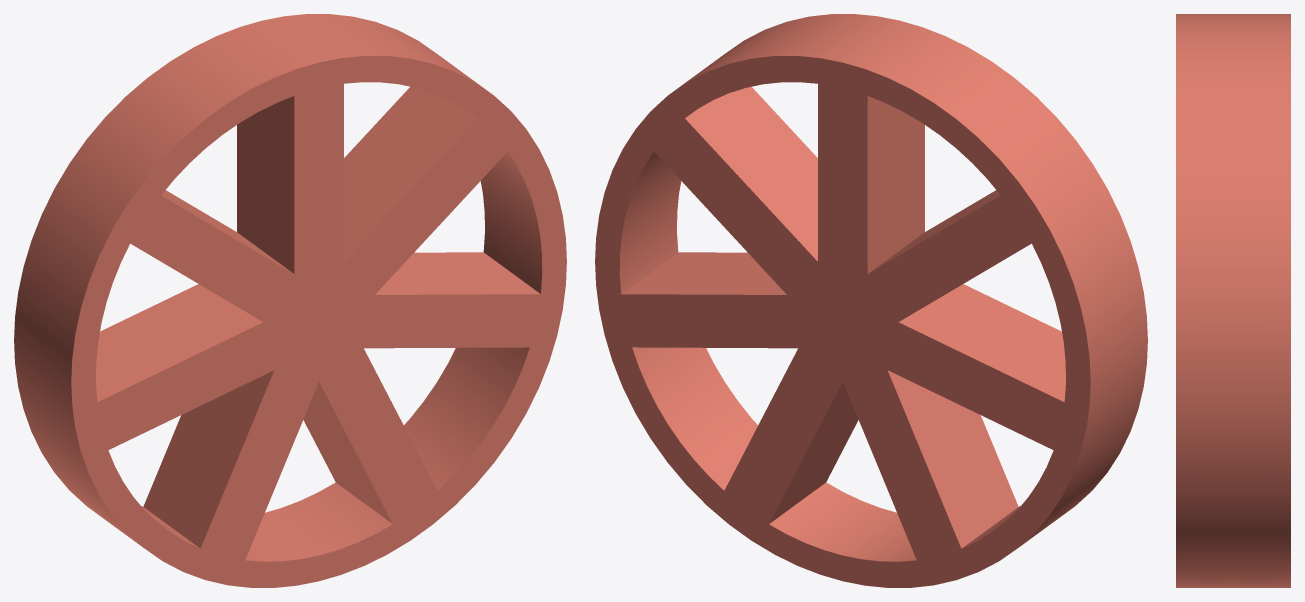
3 renders of one model, left to right at view 1: azimuth 30°, elevation 25°; view 2: azimuth 150°, elevation 25°; view 3: azimuth 270°, elevation 25°, orthographic.
Visible parts, largest first — view 1: Body1; view 2: Body1; view 3: Body1.
Part boxes in pixels (x1=…): Body1: x1=14, y1=14, x2=566, y2=587; Body1: x1=595, y1=14, x2=1147, y2=587; Body1: x1=1176, y1=14, x2=1290, y2=587.
Size of the model in its own units: 100 by 100 by 20.
